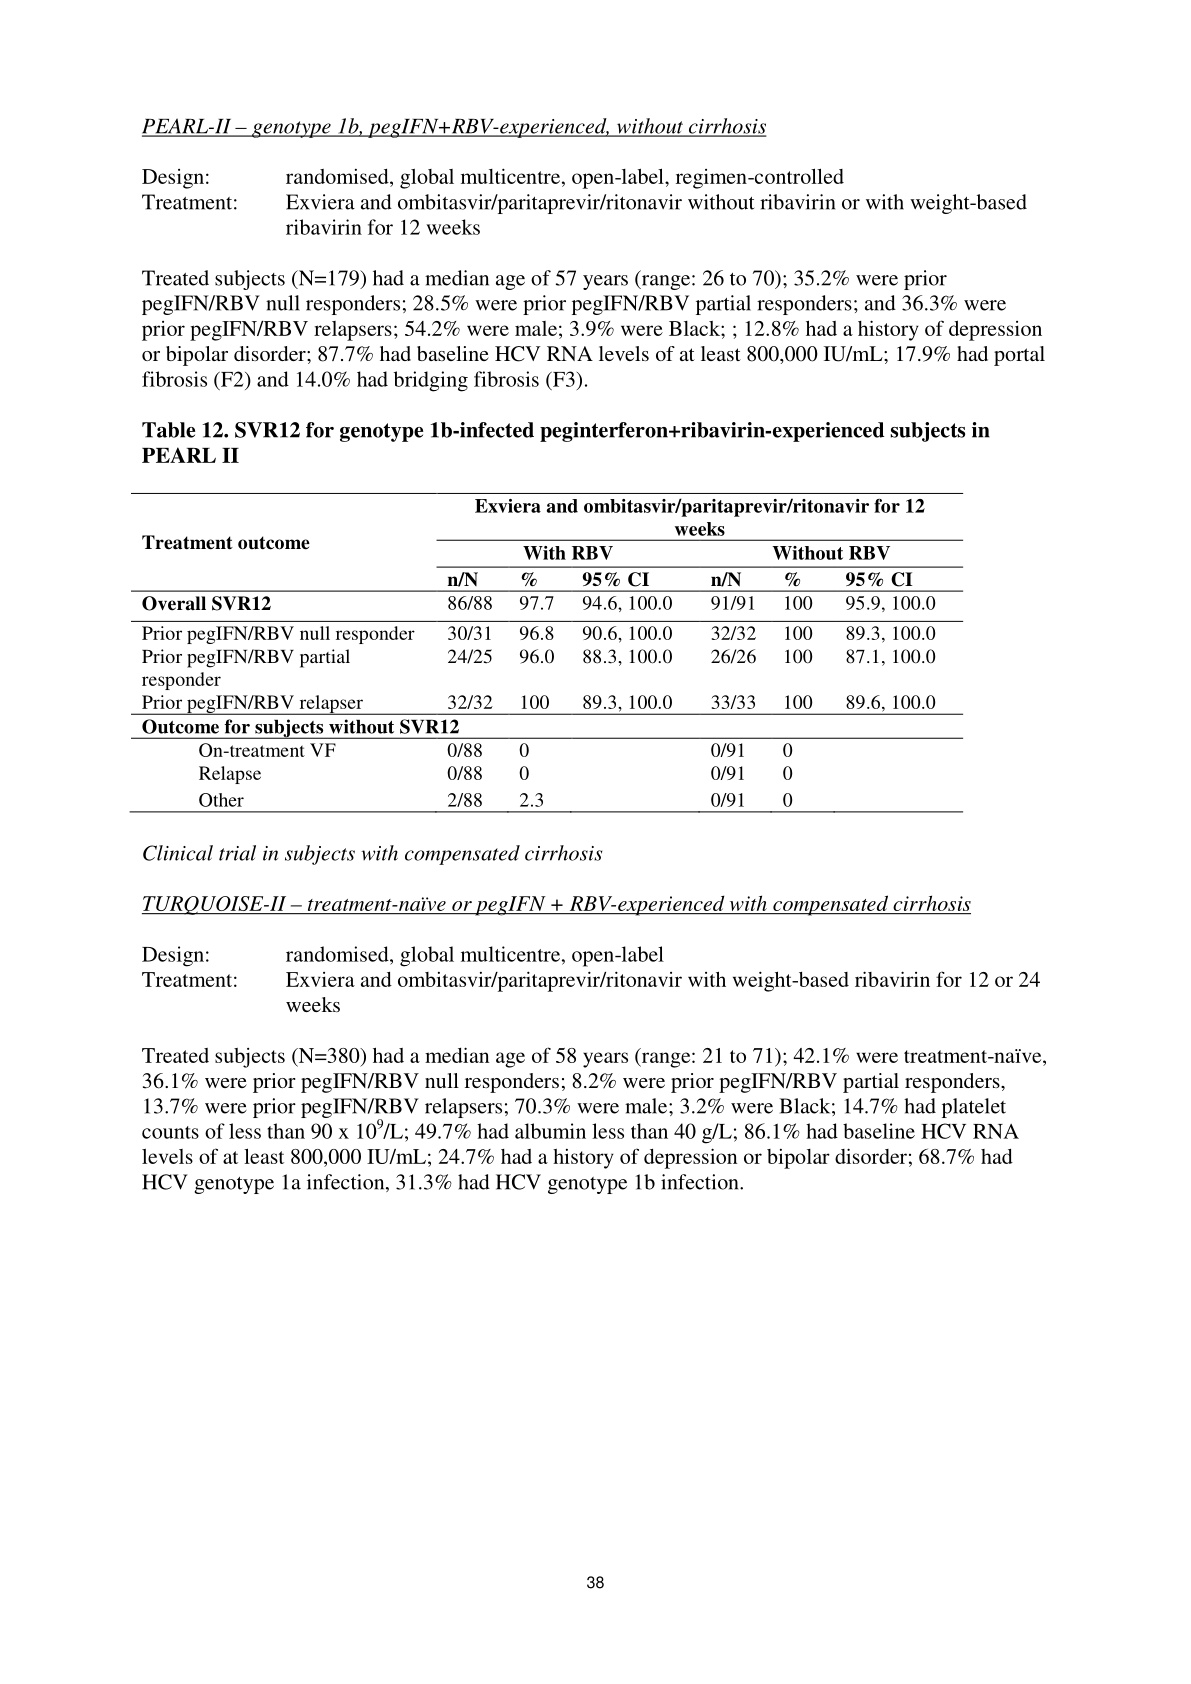partial_lined_merged_cells: (130, 493, 964, 814)
